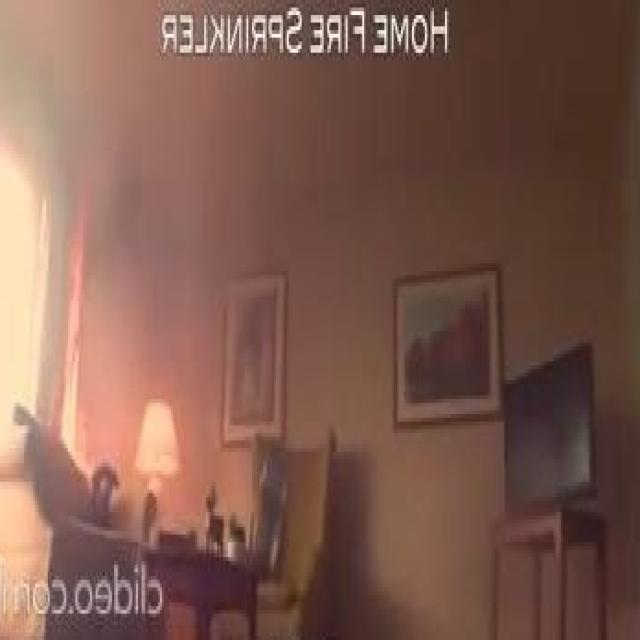smoke: (58, 181, 108, 482)
